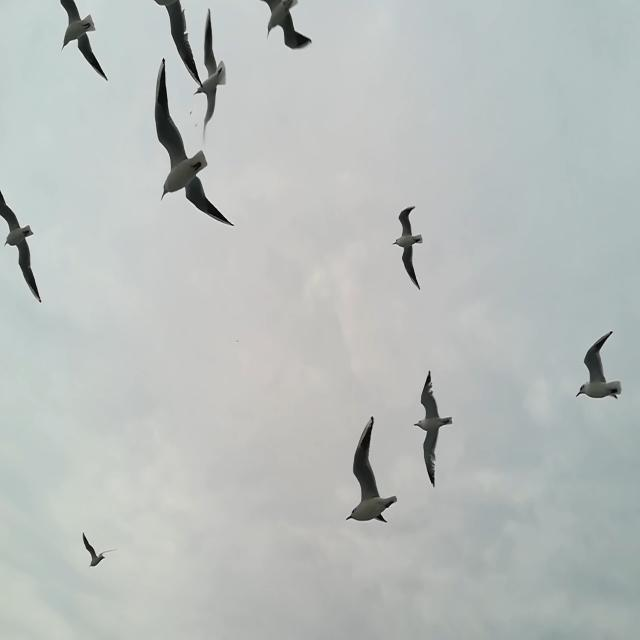bird: (148, 53, 236, 232), (344, 409, 399, 524), (409, 363, 457, 488), (0, 180, 42, 312), (190, 4, 229, 146), (147, 0, 202, 95), (55, 0, 112, 82), (574, 328, 624, 402), (389, 203, 426, 298), (252, 0, 317, 52), (73, 522, 109, 574)
